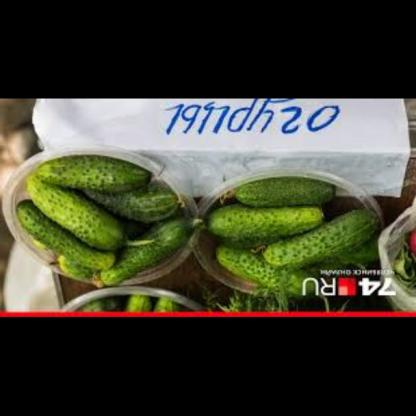cucumber: (13, 154, 200, 284), (207, 181, 379, 294)
